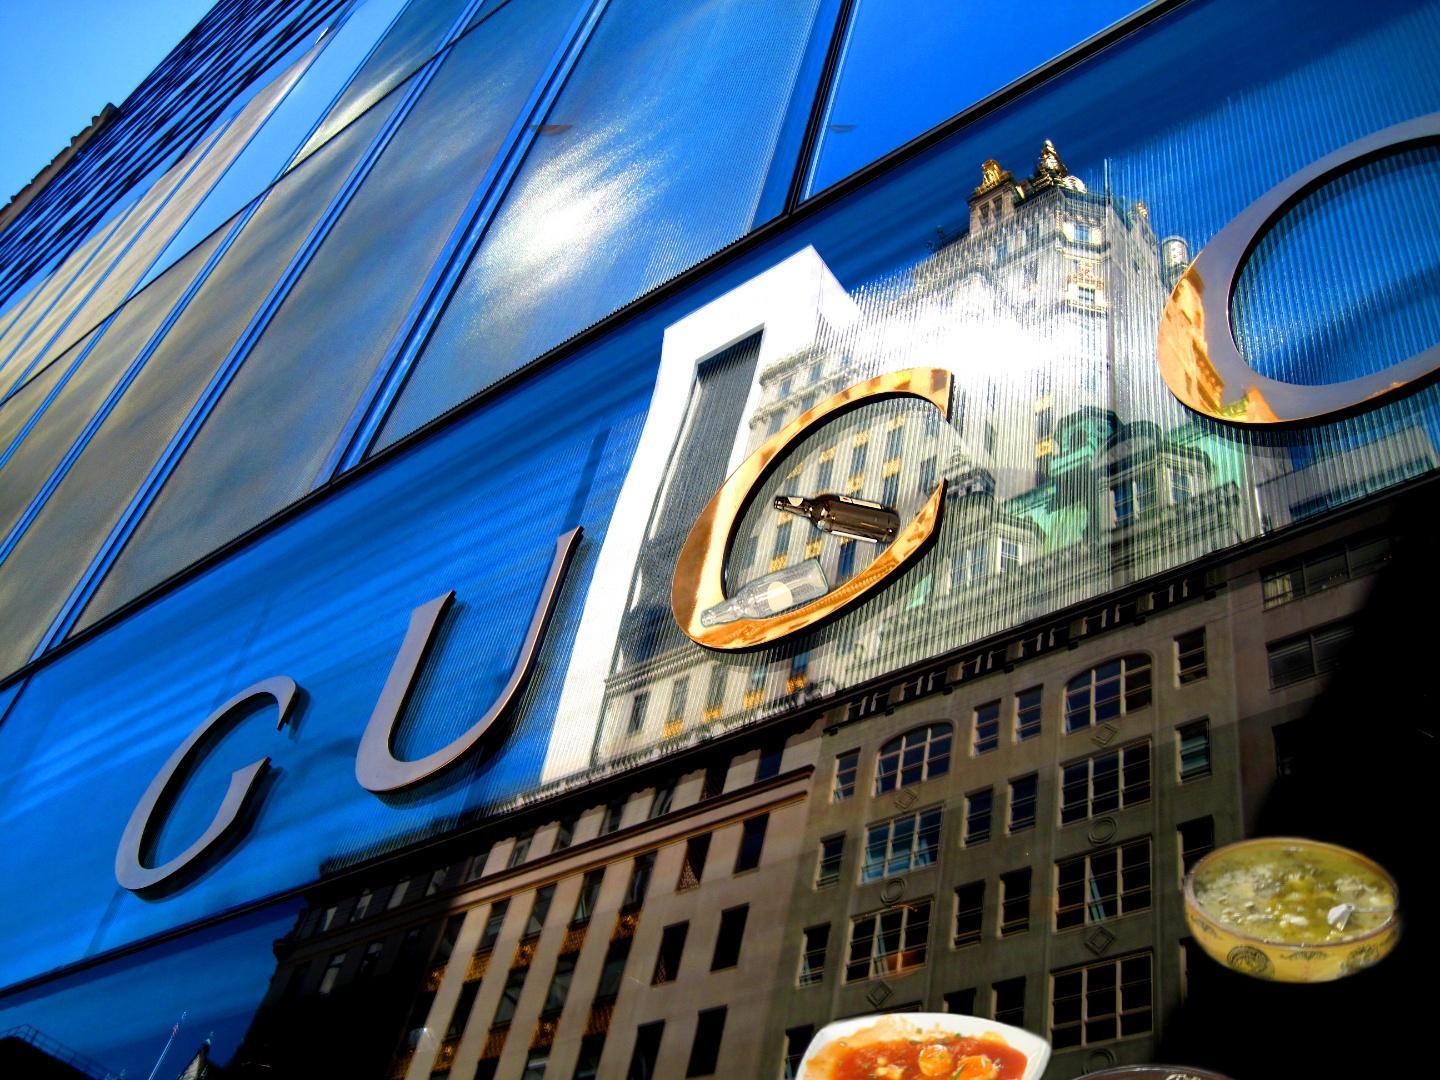biological: (639, 678, 1440, 1080)
glass: (520, 125, 905, 633)
